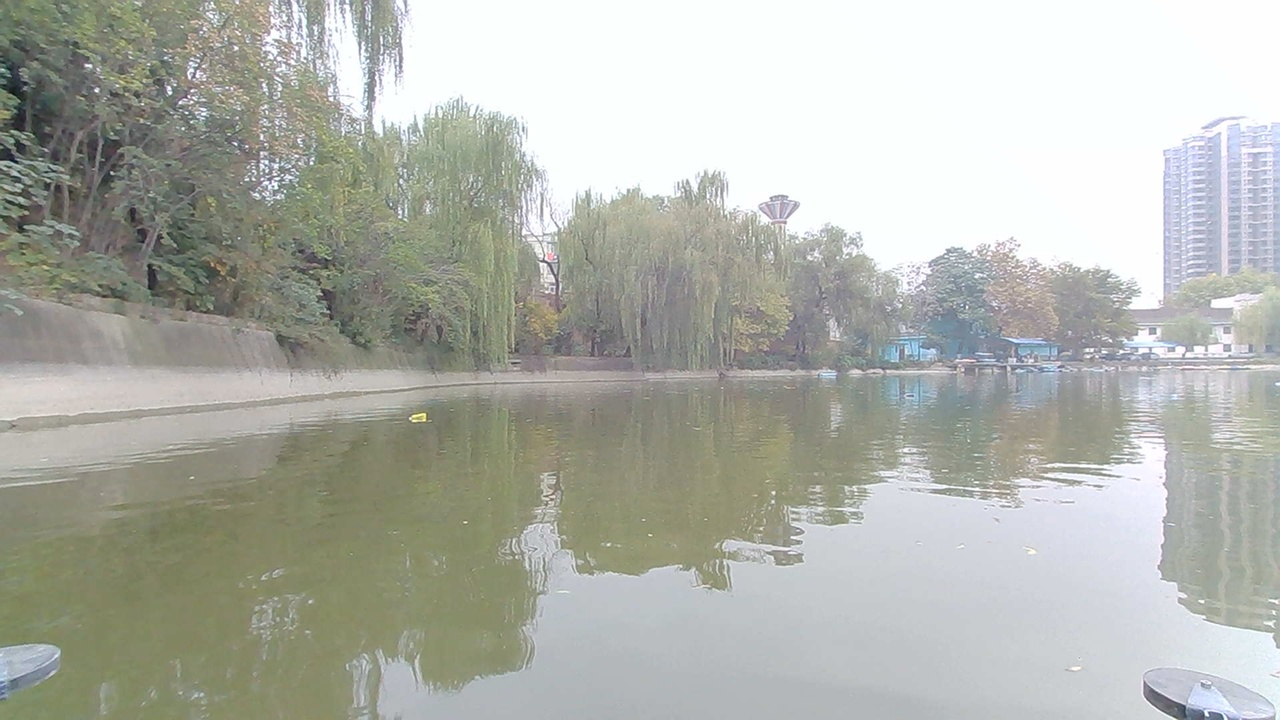bottle: (403, 407, 437, 430), (908, 387, 937, 402)
